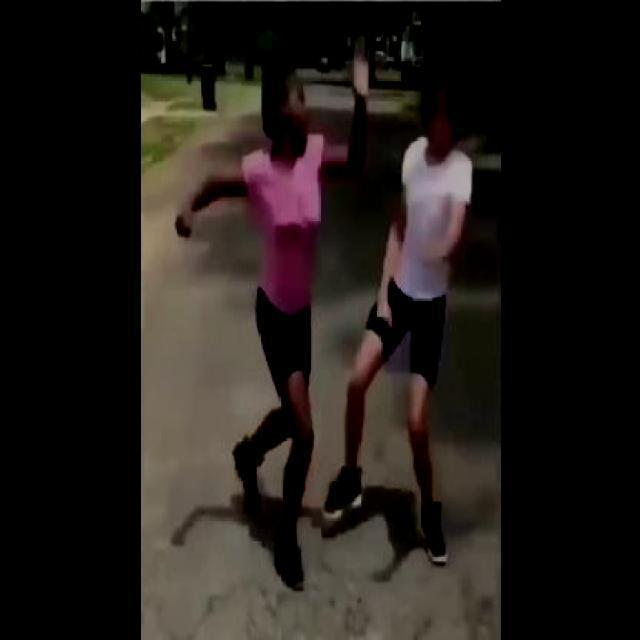fight: (226, 53, 477, 570)
